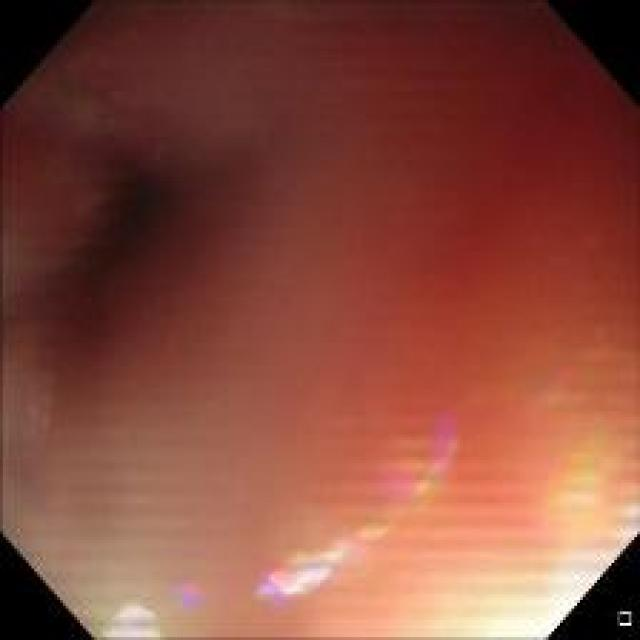blur: (0, 1, 636, 638)
color misalignment: (264, 430, 474, 605), (554, 449, 605, 520), (15, 374, 55, 441), (100, 598, 168, 636), (606, 492, 635, 554), (178, 579, 210, 612)
contrast: (72, 131, 225, 285)
saturation: (481, 552, 608, 636)
